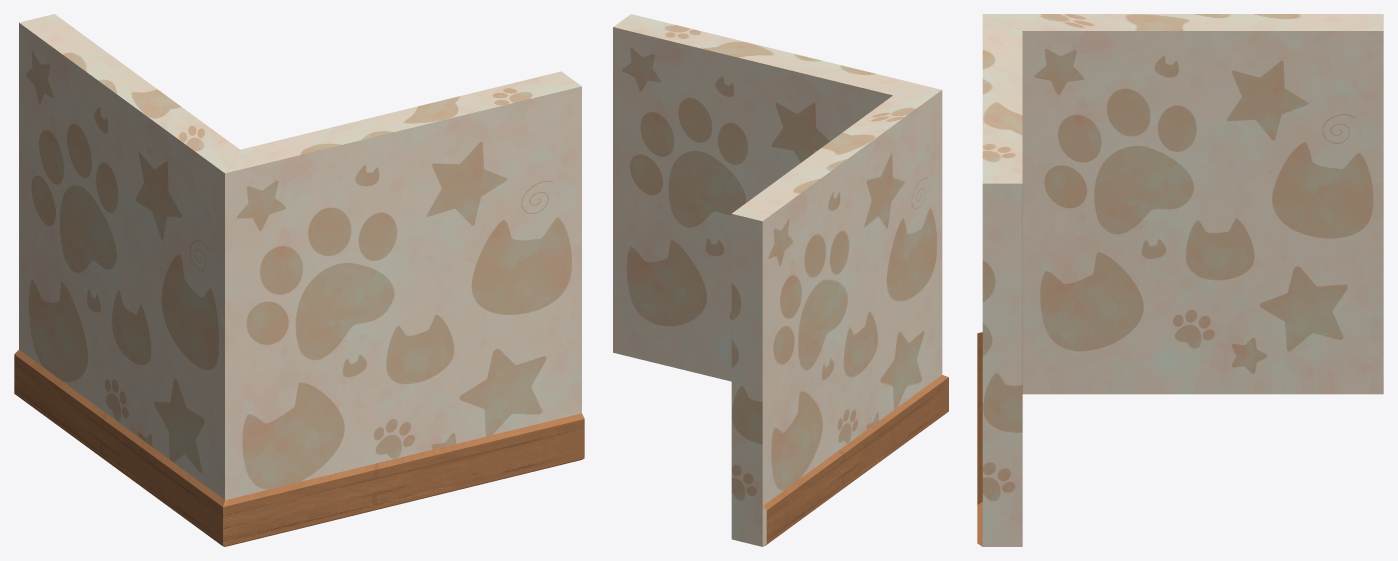
The model's file is WallAngleOut_001_SM.fbx.
The picture shows the model from 3 angles, left to right: view 1: azimuth 30°, elevation 25°; view 2: azimuth 150°, elevation 25°; view 3: azimuth 270°, elevation 25°; orthographic projection. The views are drawn at different scales.
Visible parts, largest first — view 1: WallAngleOut_001_SM; view 2: WallAngleOut_001_SM; view 3: WallAngleOut_001_SM.
Boxes of the visible parts, <box> form: WallAngleOut_001_SM: <box>14,14,584,546</box>; WallAngleOut_001_SM: <box>613,14,948,546</box>; WallAngleOut_001_SM: <box>977,14,1383,546</box>.
Bounding box in the file's own units: 253 × 250 × 253.
1 material, 1 textured.
